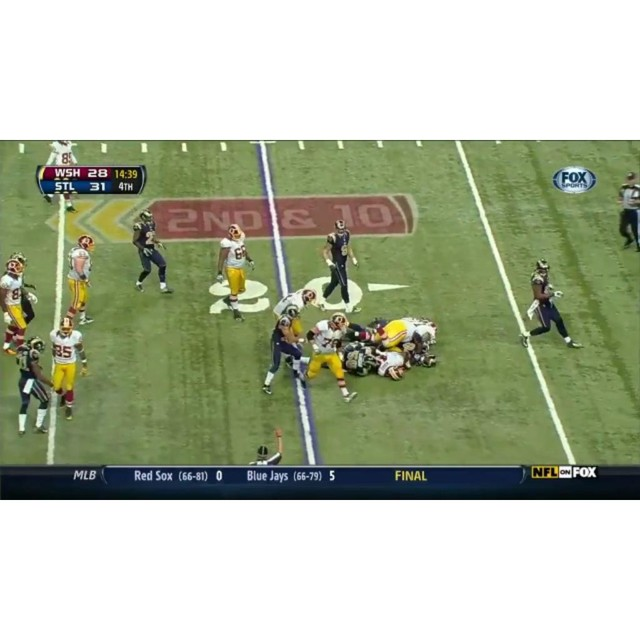american-football-player: (522, 265, 581, 350), (295, 327, 359, 401), (48, 316, 88, 421), (262, 305, 308, 395), (214, 223, 255, 321), (132, 210, 173, 296), (16, 338, 51, 436), (0, 261, 34, 355), (321, 222, 356, 309), (37, 141, 79, 212), (371, 317, 437, 361), (65, 235, 95, 325), (272, 288, 319, 324)
referee: (616, 172, 640, 253)
